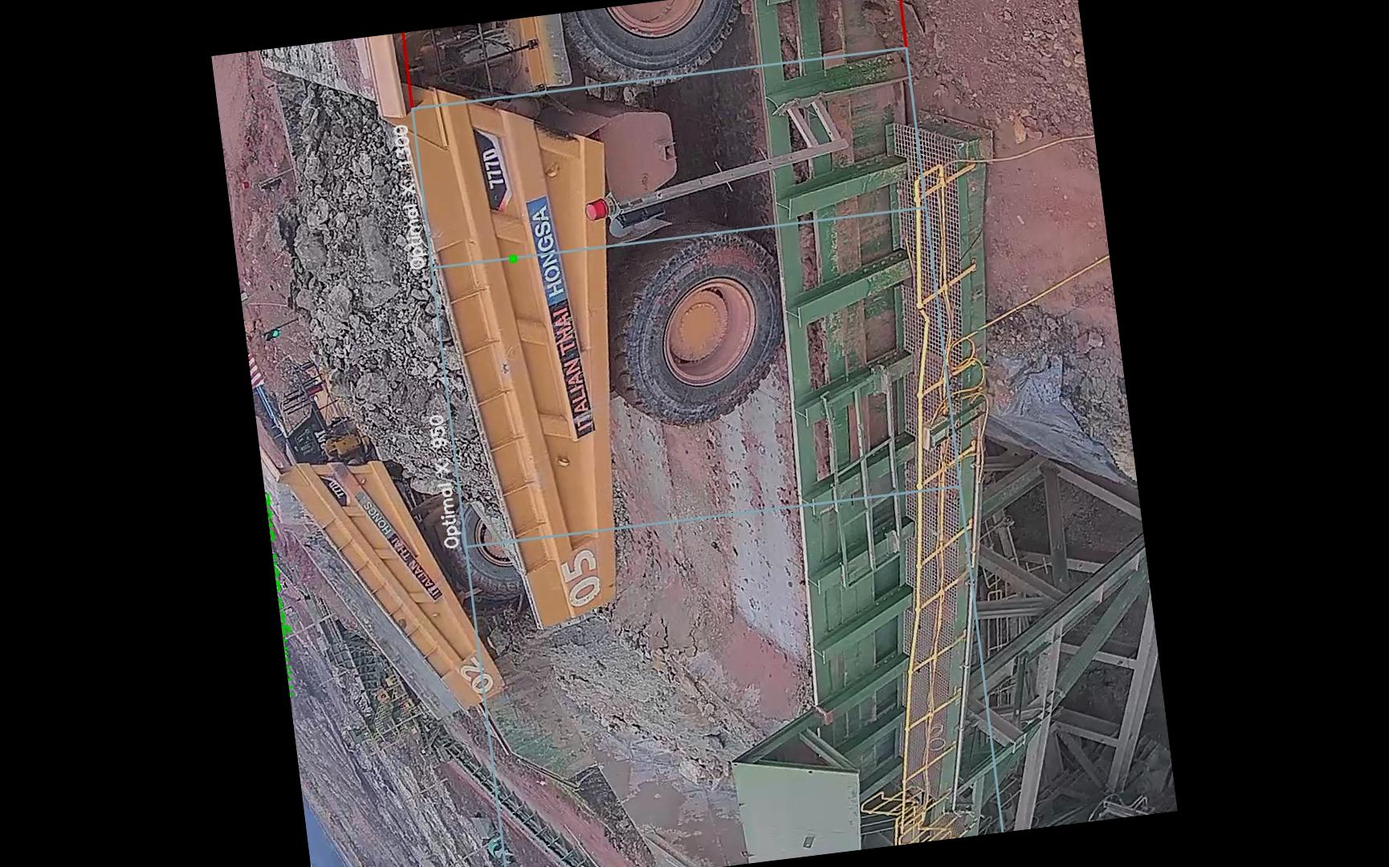company: (517, 183, 600, 445)
full_load: (268, 148, 479, 477)
mining_truck: (242, 0, 817, 667)
tail_number: (548, 537, 613, 619)
truck_size: (468, 119, 516, 218)
